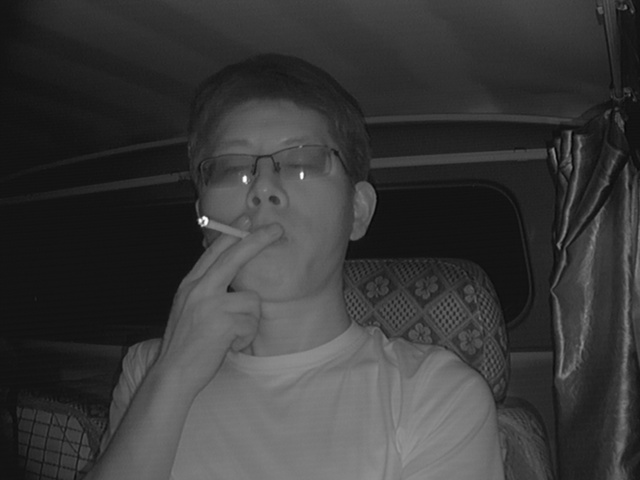hand: (194, 215, 289, 343)
